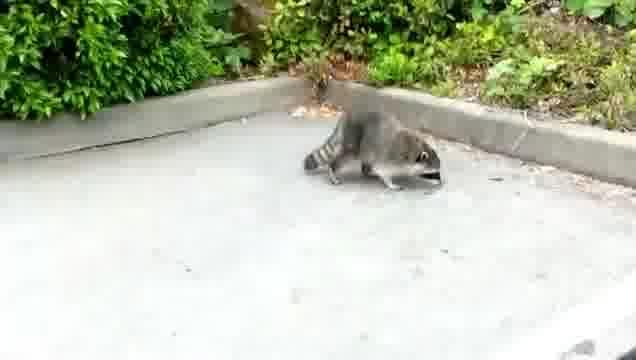raccoon: (300, 105, 446, 198)
